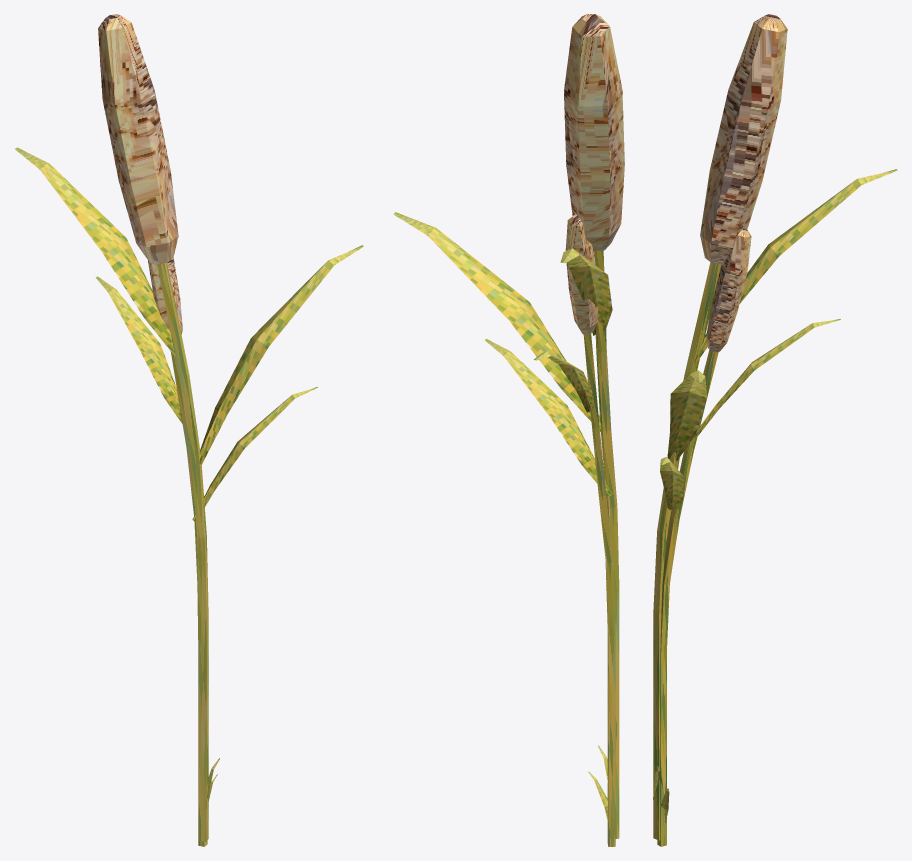
File: Wheat.fbx
3 renders of one model, left to right at view 1: azimuth 30°, elevation 25°; view 2: azimuth 150°, elevation 25°; view 3: azimuth 270°, elevation 25°, orthographic. The views are drawn at different scales.
Visible parts, largest first — view 1: Wheat_3_1, Wheat_3_1.003, Wheat_3_1.001, Wheat_3_1.002, Wheat_2.003, Wheat_2.002, Wheat_2, Wheat_2.001; view 2: Wheat_3_1, Wheat_3_1.002, Wheat_2, Wheat_3_1.003, Wheat_2.002, Wheat_3_1.001, Wheat_2.001, Wheat_2.003; view 3: Wheat_3_1, Wheat_3_1.003, Wheat_2, Wheat_2.001, Wheat_3_1.001, Wheat_3_1.002, Wheat_2.003, Wheat_2.002.
Part boxes in pixels (x1,y1,x2,y2): Wheat_3_1: [98, 14, 178, 264]; Wheat_3_1.003: [157, 262, 208, 841]; Wheat_3_1.001: [15, 147, 185, 359]; Wheat_3_1.002: [199, 245, 363, 464]; Wheat_2.003: [95, 276, 182, 423]; Wheat_2.002: [192, 387, 317, 522]; Wheat_2: [170, 351, 207, 846]; Wheat_2.001: [148, 258, 182, 334]; Wheat_3_1: [564, 14, 624, 250]; Wheat_3_1.002: [393, 212, 601, 433]; Wheat_2: [583, 333, 615, 846]; Wheat_3_1.003: [594, 250, 619, 838]; Wheat_2.002: [484, 339, 612, 496]; Wheat_3_1.001: [560, 248, 612, 335]; Wheat_2.001: [565, 214, 597, 334]; Wheat_2.003: [533, 351, 593, 412]; Wheat_3_1: [700, 14, 787, 264]; Wheat_3_1.003: [653, 262, 721, 840]; Wheat_2: [657, 350, 718, 846]; Wheat_2.001: [706, 228, 751, 352]; Wheat_3_1.001: [691, 169, 897, 363]; Wheat_3_1.002: [667, 370, 706, 461]; Wheat_2.003: [694, 319, 840, 437]; Wheat_2.002: [660, 457, 683, 509].
Bounding box in the file's own units: 342 × 1035 × 283.
